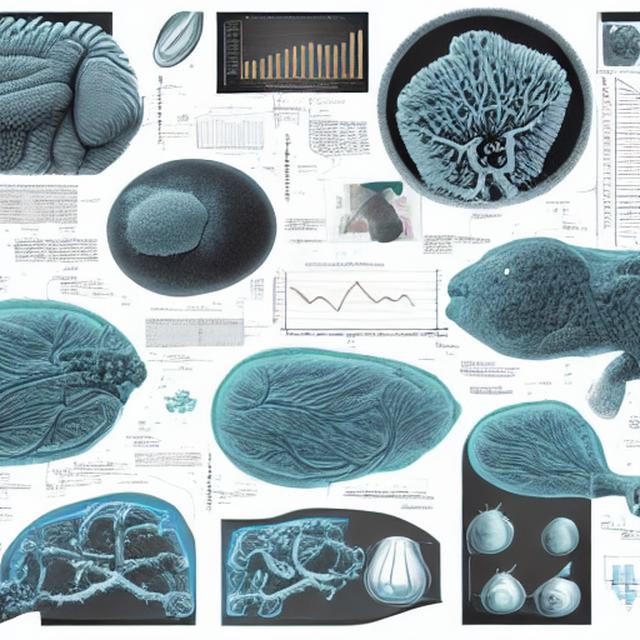Graph: (270, 259, 421, 344), (220, 13, 368, 93), (189, 112, 265, 155)
